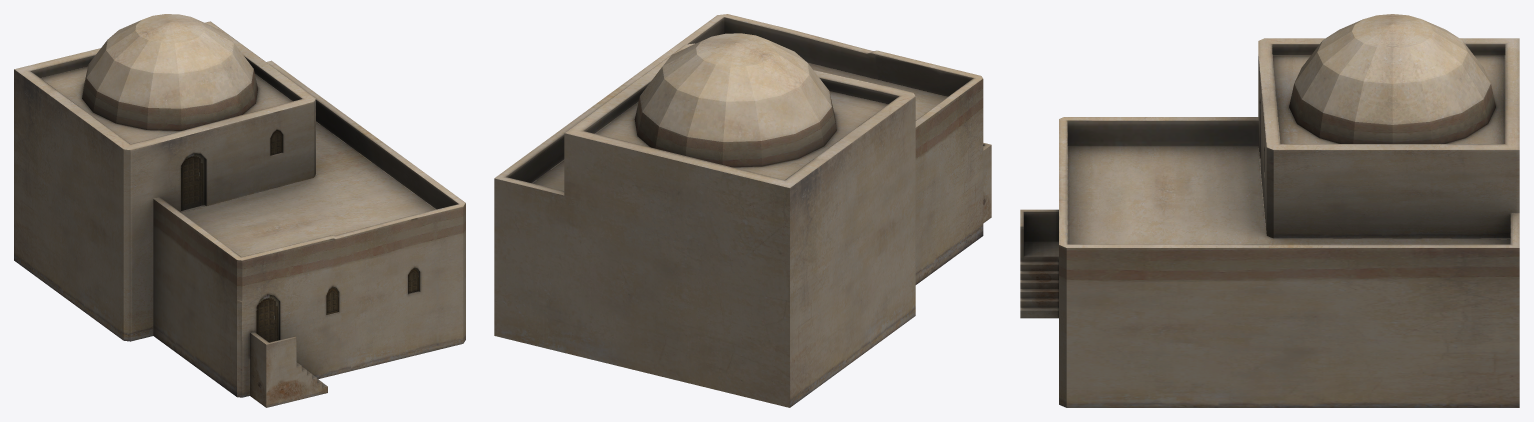
File: Low Poly Middle East Building_obj.obj
3 views of the same model, side by side, from view 1: azimuth 30°, elevation 25°; view 2: azimuth 150°, elevation 25°; view 3: azimuth 270°, elevation 25° (orthographic). The views are drawn at different scales.
Parts seen in each view (by area): view 1: D__Dropbox_AV_Business_Turbosquid_4__Export___Publish_Middle_Eas; view 2: D__Dropbox_AV_Business_Turbosquid_4__Export___Publish_Middle_Eas; view 3: D__Dropbox_AV_Business_Turbosquid_4__Export___Publish_Middle_Eas.
Part boxes in pixels (x1,y1,x2,y2): D__Dropbox_AV_Business_Turbosquid_4__Export___Publish_Middle_Eas: (14, 14, 465, 407); D__Dropbox_AV_Business_Turbosquid_4__Export___Publish_Middle_Eas: (494, 14, 991, 407); D__Dropbox_AV_Business_Turbosquid_4__Export___Publish_Middle_Eas: (1020, 14, 1519, 407).
Bounding box in the file's own units: 141 × 133 × 203.
